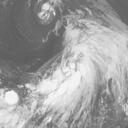cyclone: (51, 45, 95, 90)
